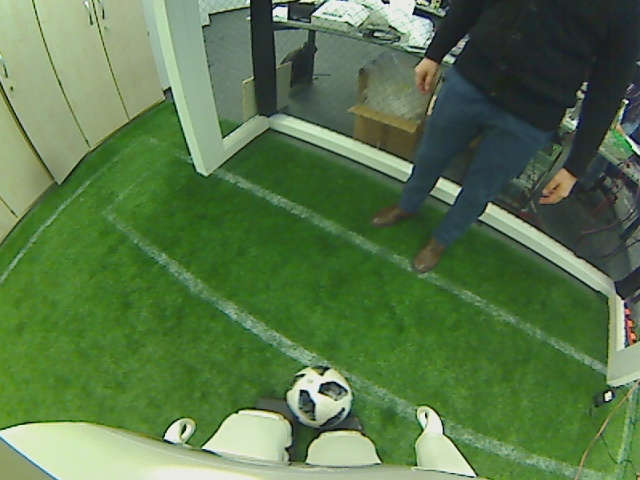ball: (285, 363, 358, 429)
